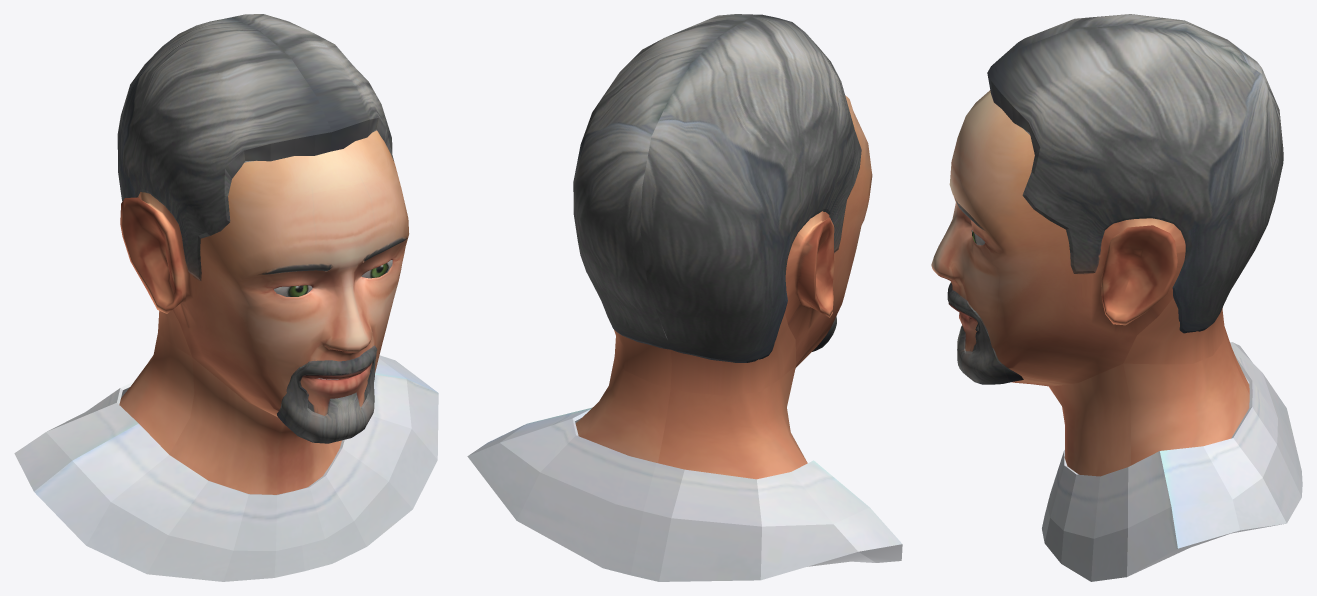
File: male_8_6_uvw_morph.fbx
3 renders of one model, left to right at view 1: azimuth 30°, elevation 25°; view 2: azimuth 150°, elevation 25°; view 3: azimuth 270°, elevation 25°, orthographic. The views are drawn at different scales.
Parts seen in each view (by area): view 1: head, shirt, hair_, Beard_; view 2: hair_, shirt, head; view 3: hair_, head, shirt, Beard_.
Part boxes in pixels (x1,y1,x2,y2): head: (119,129,409,494); shirt: (14,355,438,581); hair_: (117,14,394,281); Beard_: (277,345,376,443); hair_: (573,14,861,362); shirt: (467,407,902,581); head: (575,95,872,479); hair_: (987,14,1283,333); head: (931,90,1249,476); shirt: (1042,342,1302,581); Beard_: (947,282,1023,384).
Bounding box in the file's own units: 15.49 × 12.39 × 18.58.
